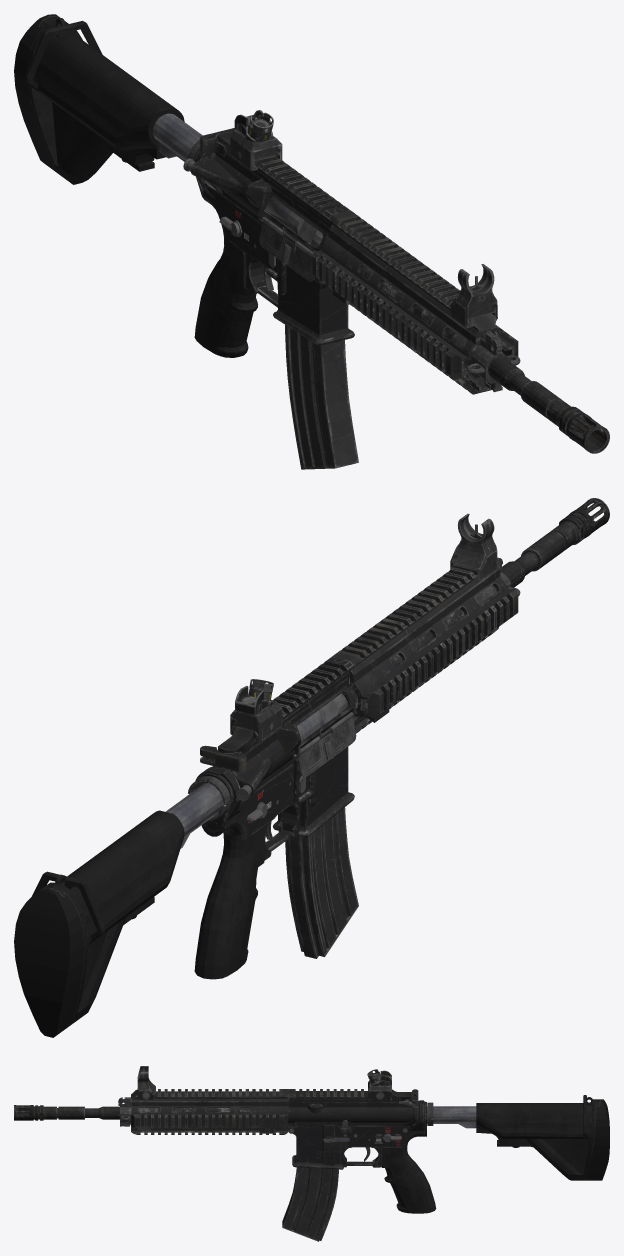
Rendered from held-m416-1fffac6602a7.glb.
3 views of the same model, one above another, from view 1: azimuth 30°, elevation 25°; view 2: azimuth 150°, elevation 25°; view 3: azimuth 270°, elevation 25° (orthographic). The views are drawn at different scales.
Parts seen in each view (by area): view 1: HandGrip_m416; view 2: HandGrip_m416; view 3: HandGrip_m416.
Part boxes in pixels (x1,y1,x2,y2): HandGrip_m416: (14,14,609,469); HandGrip_m416: (14,498,609,1037); HandGrip_m416: (14,1066,609,1241).
Size of the model in its own units: 0.0817 by 0.3157 by 1.
Materials: 5 (5 with a texture image).
